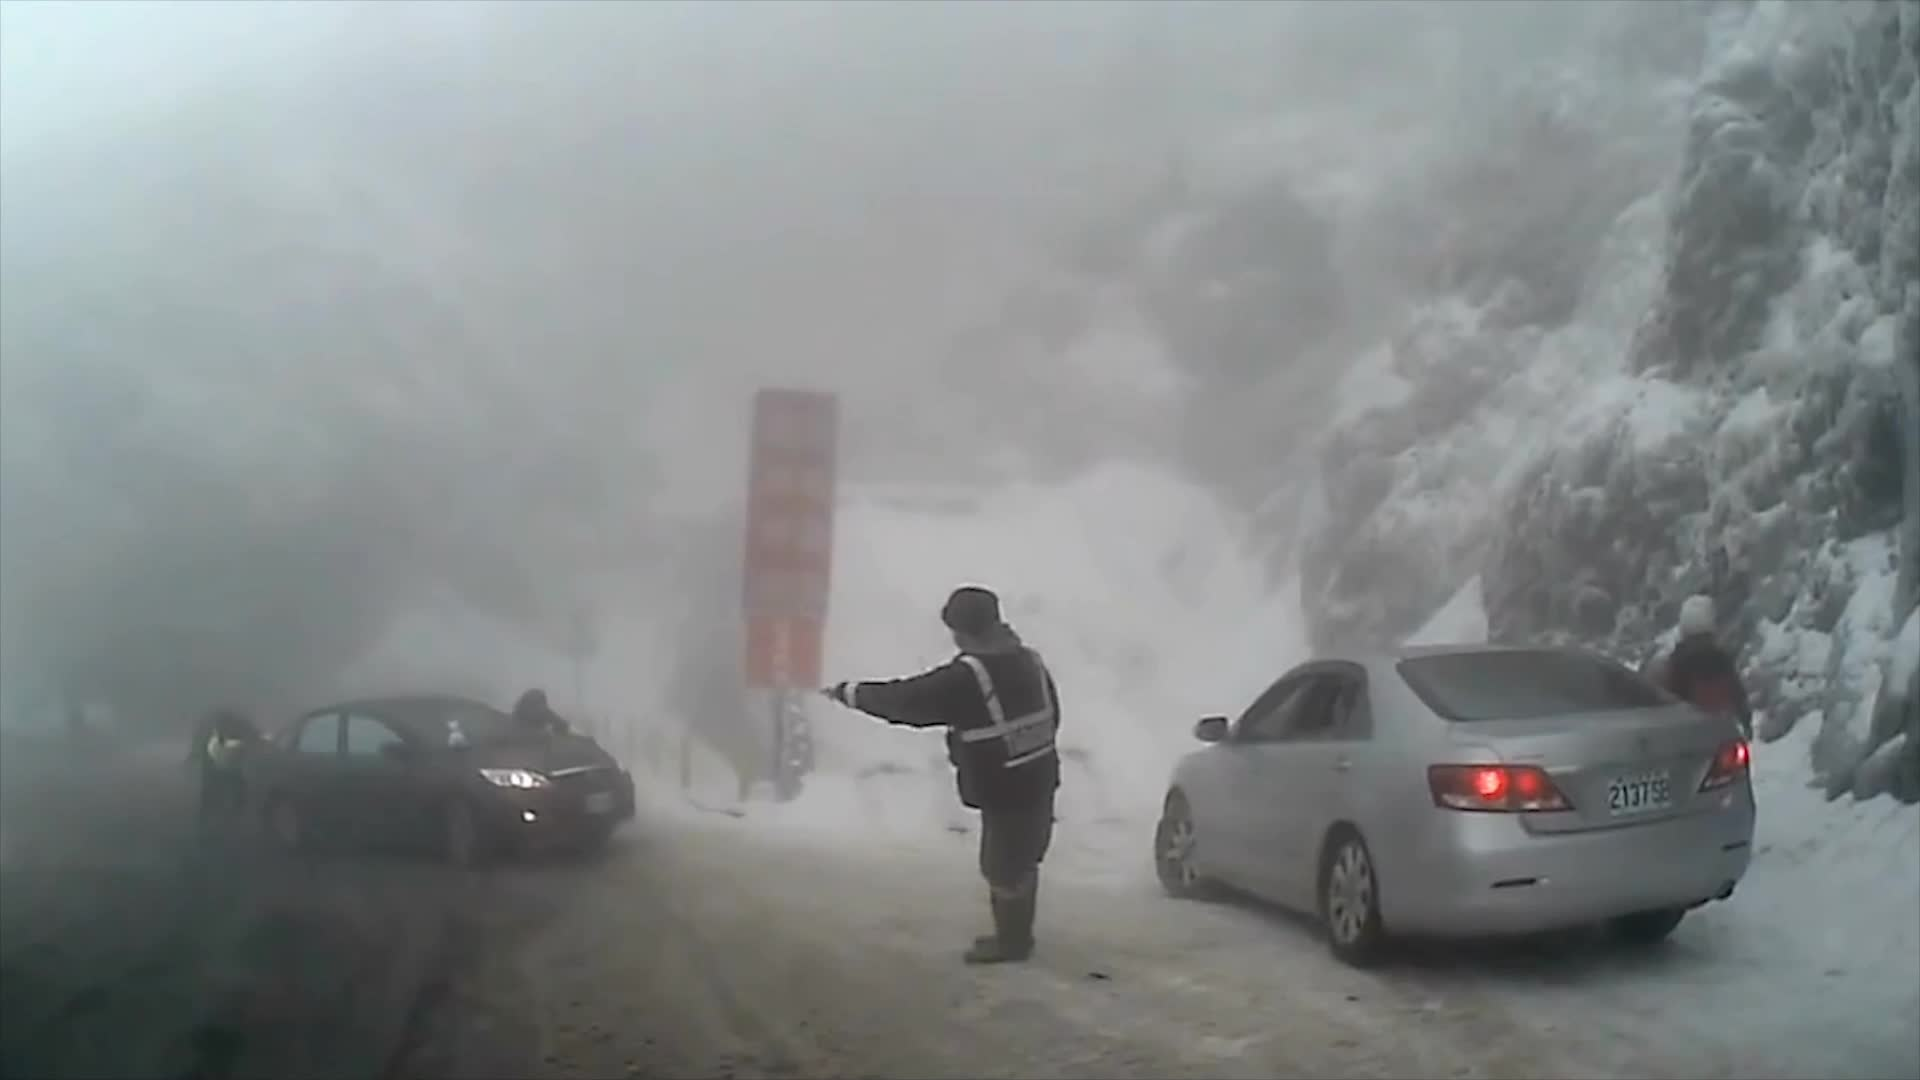pedestrian: (818, 588, 1066, 964), (1653, 594, 1755, 865), (199, 719, 264, 829)
vehicle: (1150, 644, 1754, 968), (233, 691, 633, 870)
